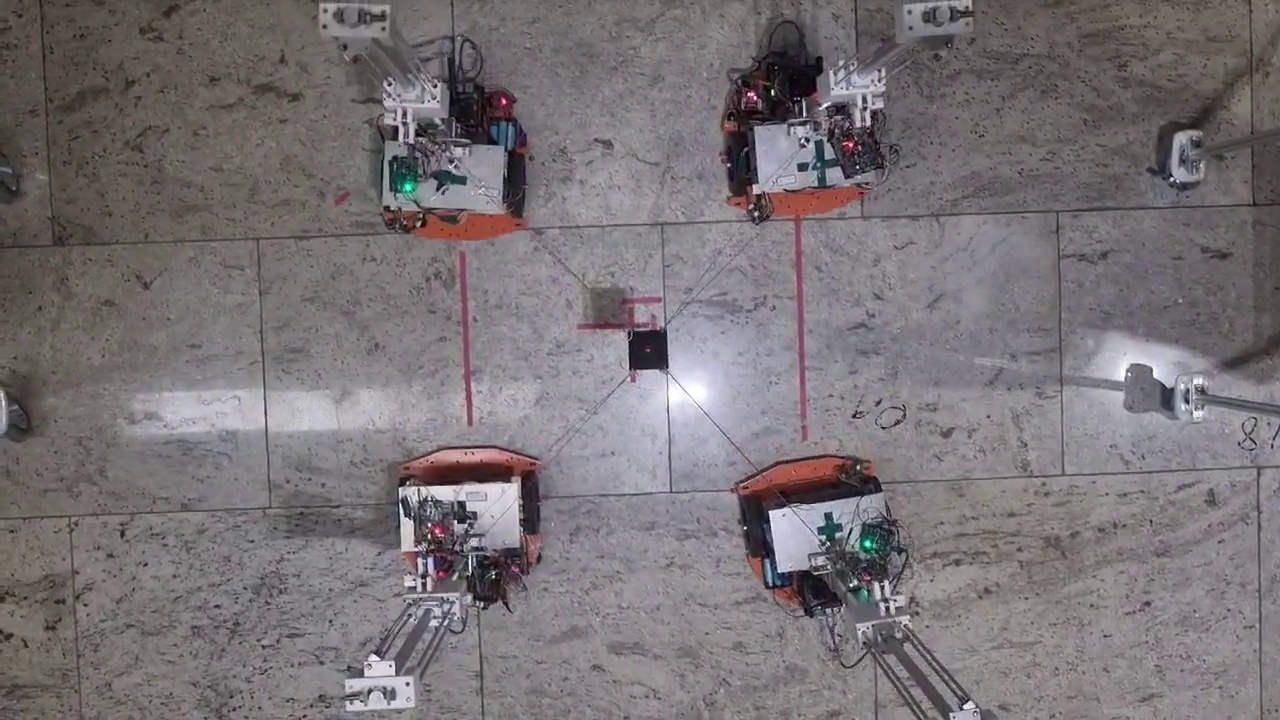e0: (628, 329, 668, 371)
r1: (738, 475, 888, 560)
r2: (726, 123, 873, 196)
r3: (382, 151, 527, 216)
r4: (398, 472, 539, 533)
y_+_axis_vector: (671, 475, 1063, 491)
y_-_axis_vector: (271, 492, 671, 507)
